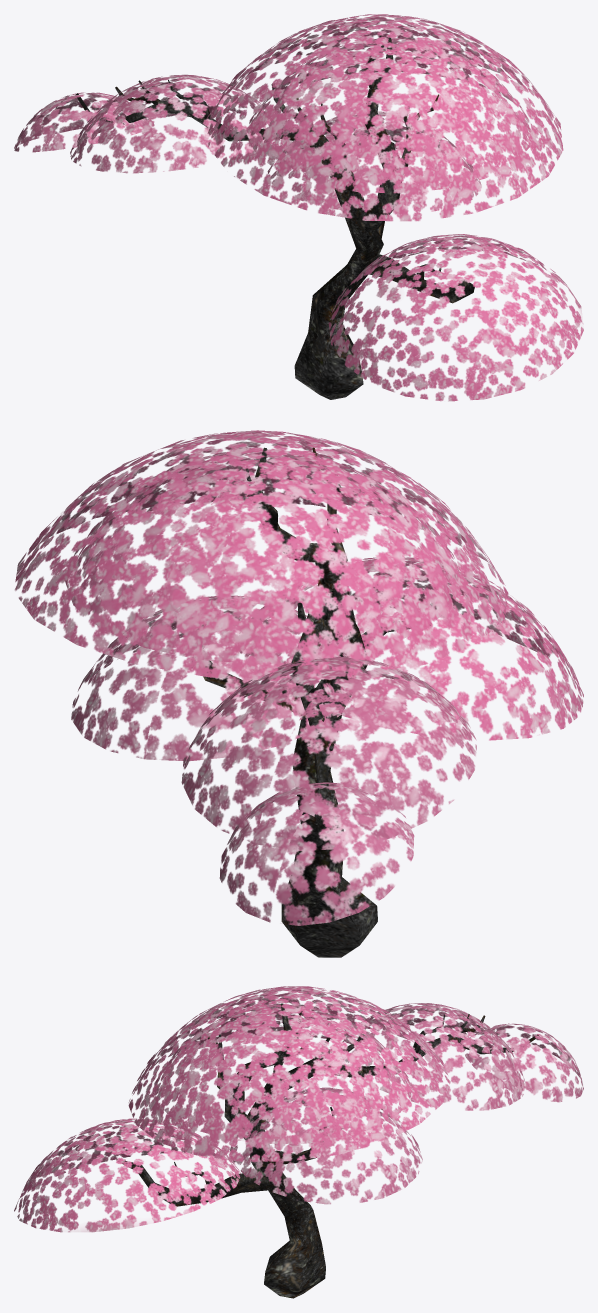
The model's file is Tree_CherryBlossom_Large.glb.
3 views of the same model, one above another, from view 1: azimuth 30°, elevation 25°; view 2: azimuth 150°, elevation 25°; view 3: azimuth 270°, elevation 25° (orthographic). The views are drawn at different scales.
Parts seen in each view (by area): view 1: CanopyL11, CanopyL10, CanopyL9, TrunkL2, CanopyM7, CanopyS8, CanopyM6; view 2: CanopyL11, CanopyM7, CanopyL9, CanopyL10, CanopyM6, CanopyS8, TrunkL2; view 3: CanopyL11, CanopyL10, CanopyL9, TrunkL2, CanopyM7, CanopyM6, CanopyS8.
Boxes of the visible parts, x1,y1,x2,y2 form: CanopyL11: (206, 14, 563, 221); CanopyL10: (328, 234, 583, 401); CanopyL9: (248, 38, 532, 193); TrunkL2: (75, 35, 474, 399); CanopyM7: (70, 74, 273, 173); CanopyS8: (14, 92, 154, 152); CanopyM6: (267, 111, 481, 213); CanopyL11: (14, 430, 508, 680); CanopyM7: (181, 656, 476, 850); CanopyL9: (65, 450, 459, 664); CanopyL10: (239, 557, 583, 740); CanopyM6: (71, 595, 364, 761); CanopyS8: (219, 782, 414, 925); TrunkL2: (202, 447, 430, 957); CanopyL11: (128, 986, 450, 1161); CanopyL10: (14, 1118, 240, 1232); CanopyL9: (154, 1004, 411, 1143); TrunkL2: (116, 1003, 538, 1298); CanopyM7: (342, 1003, 525, 1110); CanopyM6: (229, 1087, 422, 1204); CanopyS8: (463, 1023, 583, 1102).
Bounding box in the file's own units: 22.2 × 18.96 × 31.38.
Materials: 1 (1 with a texture image).
